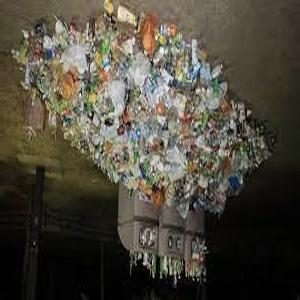Plastic: (189, 39, 199, 70)
